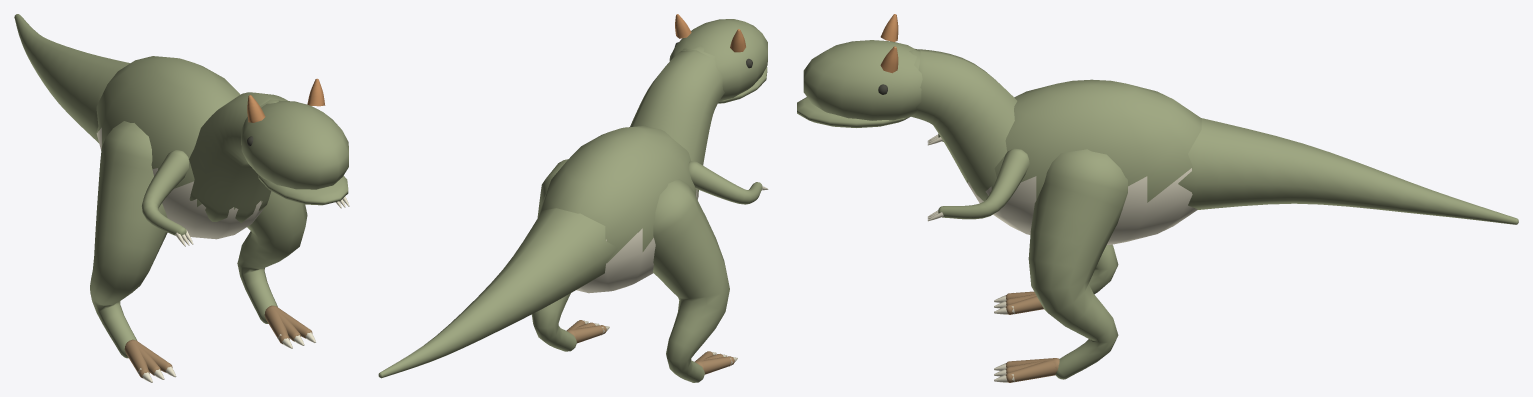
Rendered from allosaurus.glb.
The picture shows the model from 3 angles, left to right: view 1: azimuth 30°, elevation 25°; view 2: azimuth 150°, elevation 25°; view 3: azimuth 270°, elevation 25°; orthographic projection. The views are drawn at different scales.
Parts seen in each view (by area): view 1: allosaurus; view 2: allosaurus; view 3: allosaurus.
Boxes of the visible parts, x1,y1,x2,y2 form: allosaurus: [14, 14, 349, 382]; allosaurus: [378, 14, 768, 382]; allosaurus: [797, 14, 1518, 382].
Bounding box in the file's own units: 2.93 × 4.32 × 9.
